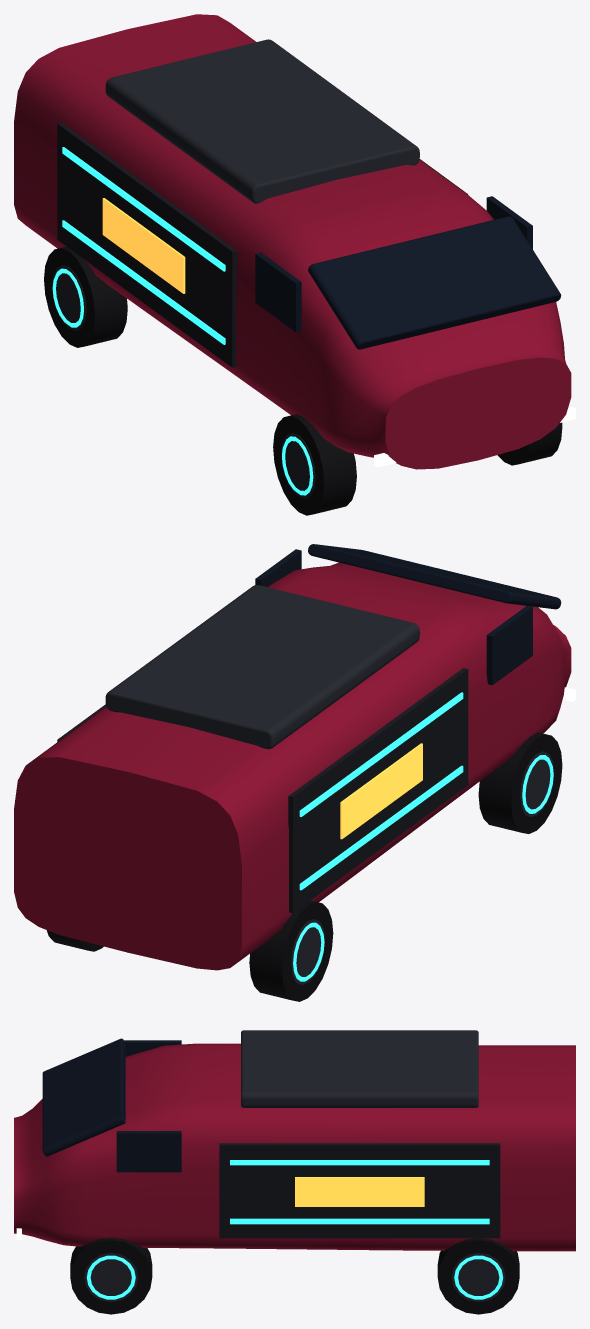
File: tr_van.glb
3 renders of one model, top to bottom at view 1: azimuth 30°, elevation 25°; view 2: azimuth 150°, elevation 25°; view 3: azimuth 270°, elevation 25°, orthographic. The views are drawn at different scales.
Parts seen in each view (by area): view 1: paint, trim, glass, paint2, rubber, neon, light_amber; view 2: paint, trim, paint2, rubber, glass, neon, light_amber; view 3: paint, trim, paint2, glass, rubber, neon, light_amber.
Part boxes in pixels (box(x1,y1,x2,y2)): paint: box(14, 14, 571, 469); trim: box(52, 39, 419, 498); glass: box(255, 196, 561, 349); paint2: box(57, 122, 468, 367); rubber: box(44, 246, 562, 515); neon: box(52, 147, 313, 495); light_amber: box(102, 198, 185, 293); paint: box(14, 562, 571, 970); trim: box(105, 585, 554, 984); paint2: box(57, 668, 468, 913); rubber: box(46, 732, 562, 1001); glass: box(255, 544, 561, 685); neon: box(293, 692, 553, 981); light_amber: box(340, 743, 422, 839); paint: box(14, 1043, 575, 1251); trim: box(84, 1030, 505, 1301); paint2: box(219, 1143, 500, 1238); glass: box(42, 1038, 181, 1172); rubber: box(70, 1237, 519, 1314); neon: box(86, 1160, 503, 1299); light_amber: box(295, 1177, 424, 1206).
Size of the model in its own units: 2.09 by 2.11 by 5.2.
